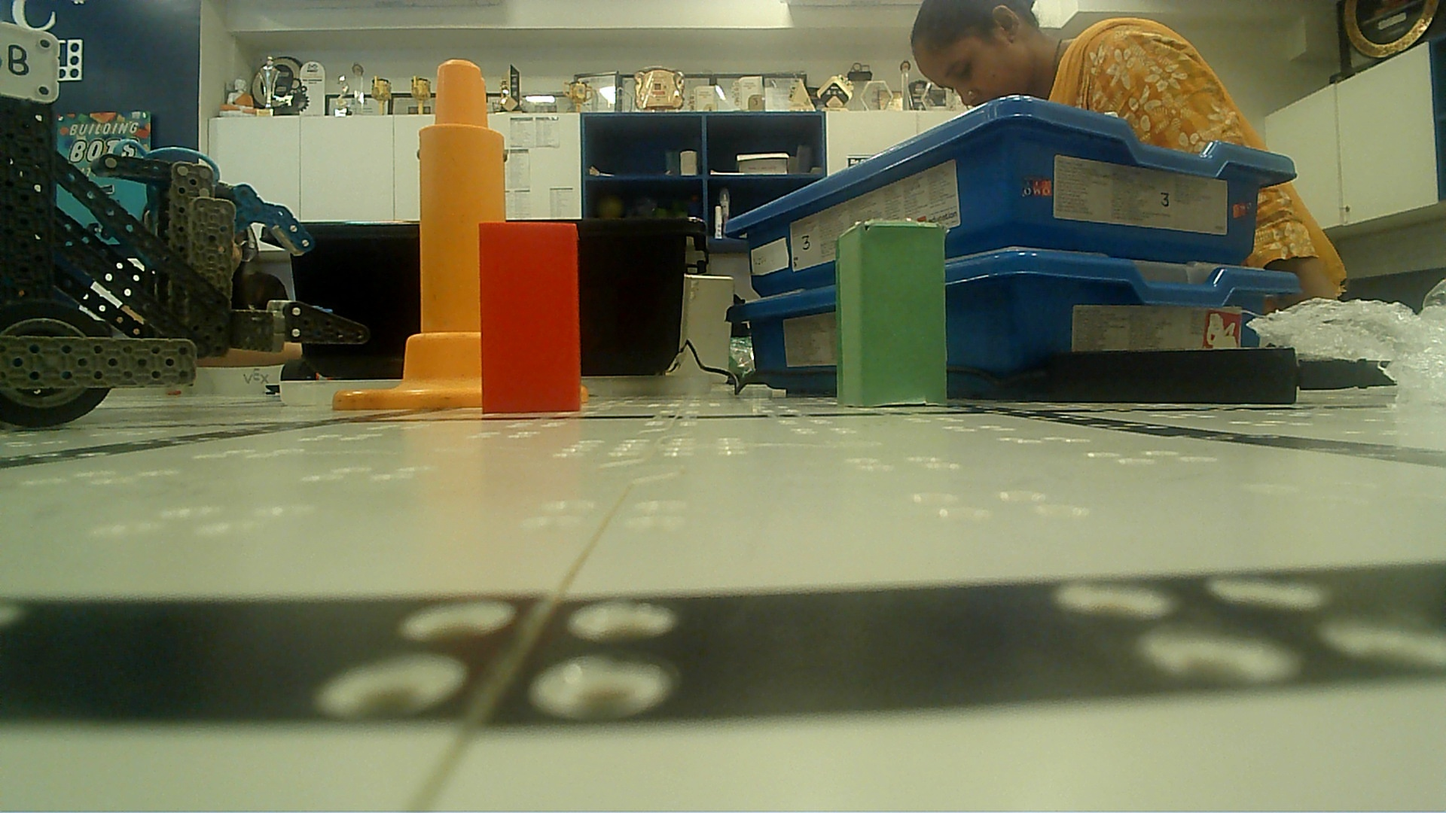green: (831, 215, 951, 413)
